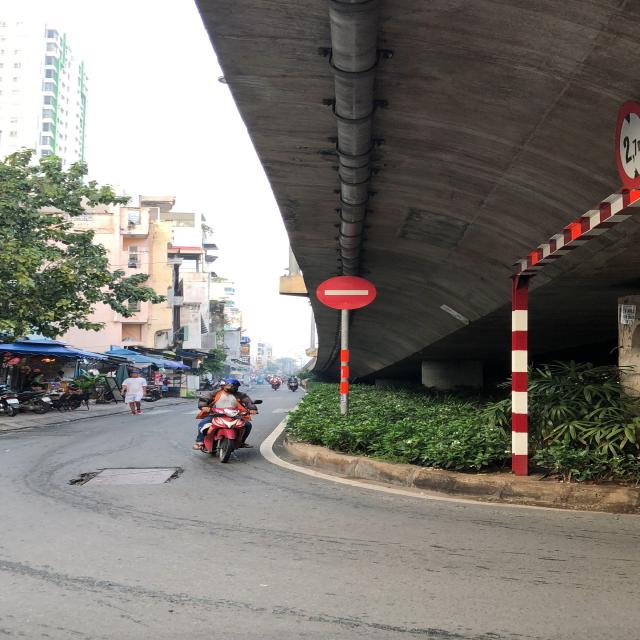Bien bao cam di nguoc chieu: (315, 272, 384, 310)
